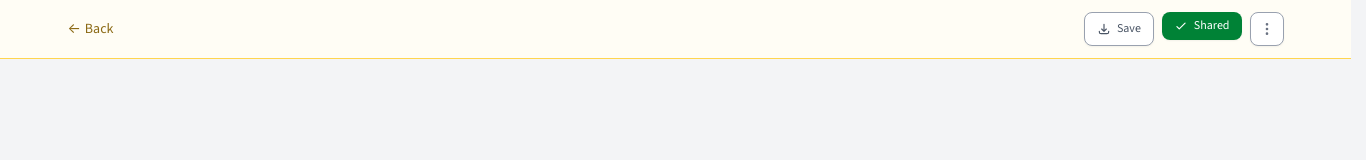
Test case: CaseHeader › ShareBar popover › should show share URL when clicking Shared button
The image size is (1366, 160).
Note: Click "Shared" to open the ShareBar popover
Step 1. Click the button with aria-label "toggle share options" → (1202, 26), box x1=1162 y1=12 x2=1242 y2=40
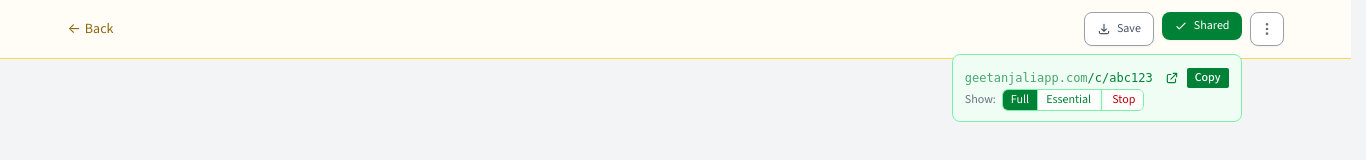
Expected: the text "geetanjaliapp.com/c/abc123" is shown, x1=965 y1=70 x2=1153 y2=86
